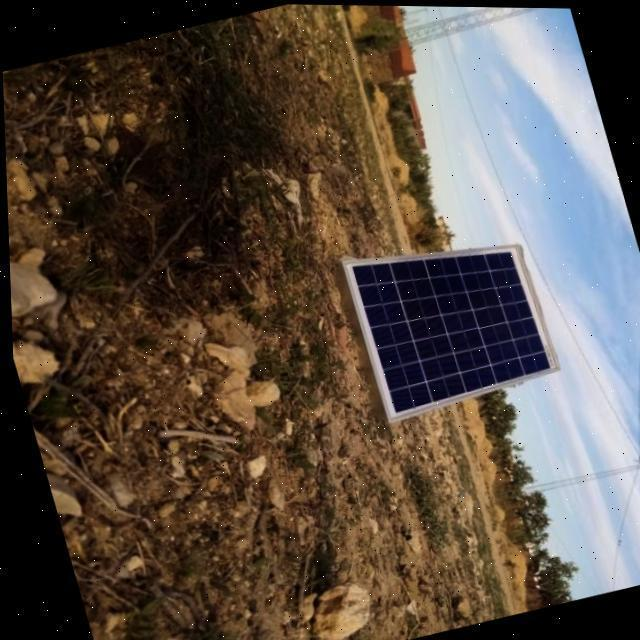Normal Solar Panel: (338, 216, 560, 422)
